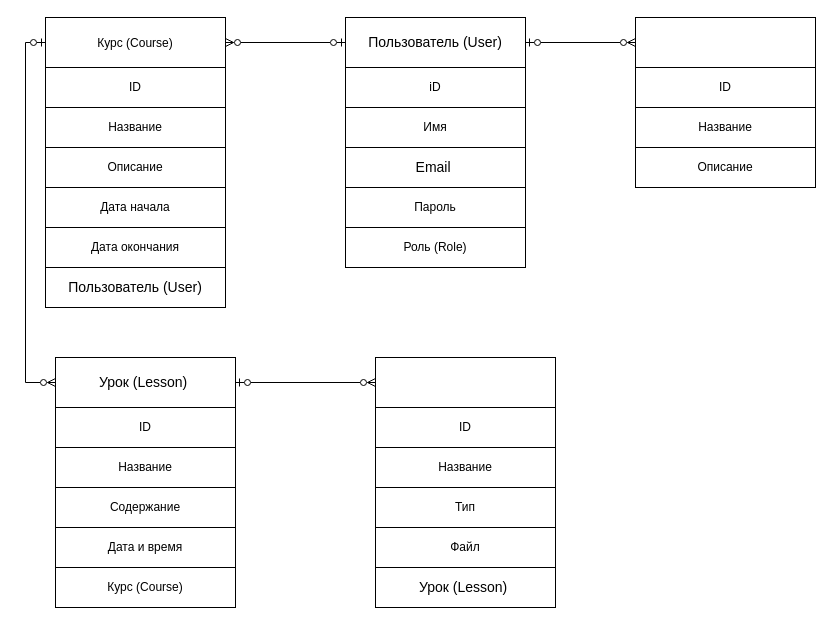
This 833x625 diagram has some shape labels left out. Each missing label, with the box of its shape:
Материалы (Material): (374, 356, 556, 408)
Роль: (634, 16, 816, 68)
